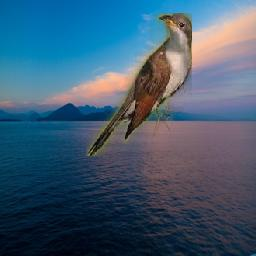Cuckoo: (86, 14, 192, 157)
